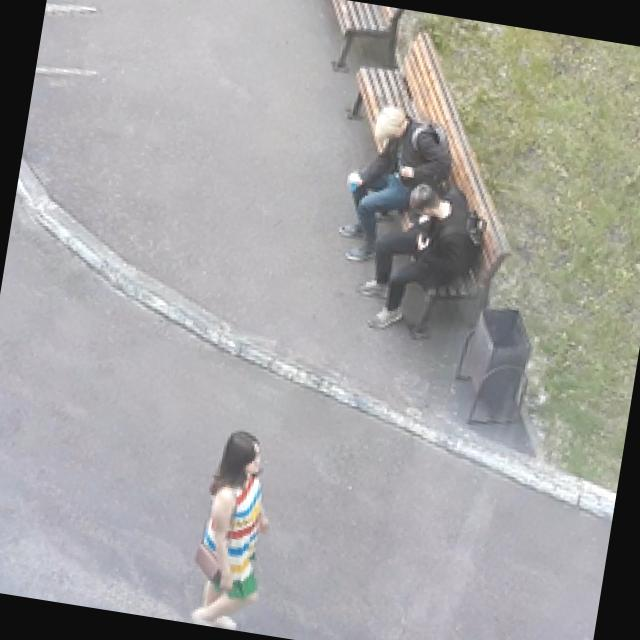person: (354, 177, 489, 343), (333, 100, 461, 272), (186, 426, 284, 632)
